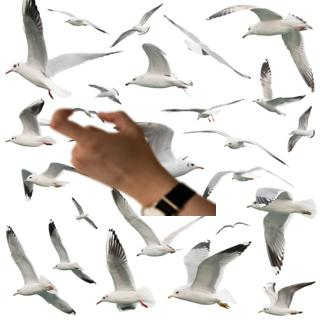HATE: (44, 102, 156, 195)
